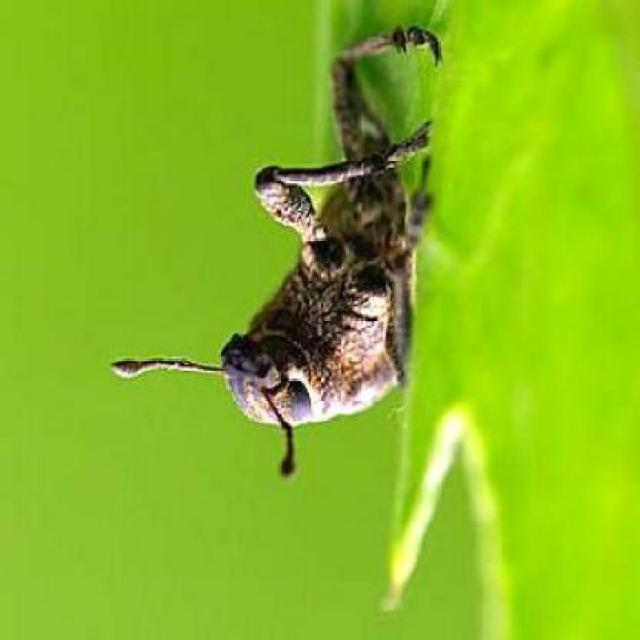rice-bug: (193, 18, 456, 450)
